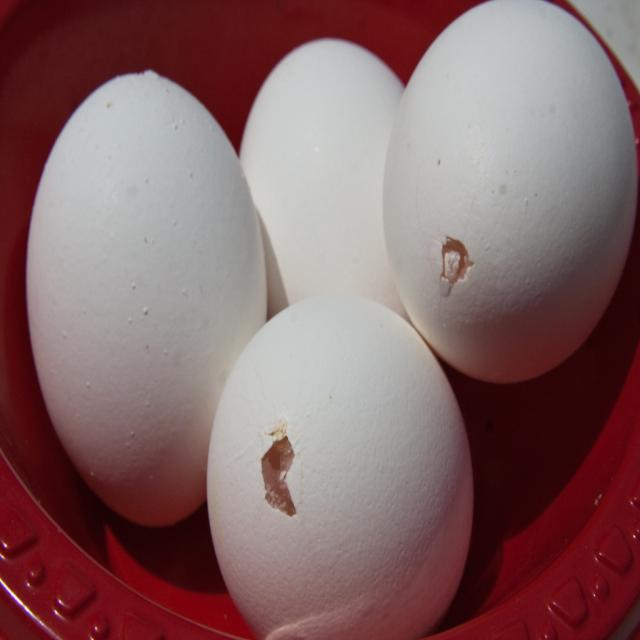Egg: (22, 0, 640, 639), (380, 0, 636, 387)
